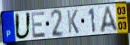1: (88, 8, 97, 34)
2: (50, 8, 65, 40)
A: (99, 5, 120, 34)
E: (30, 11, 47, 40)
K: (66, 9, 80, 35)
U: (14, 12, 32, 41)
